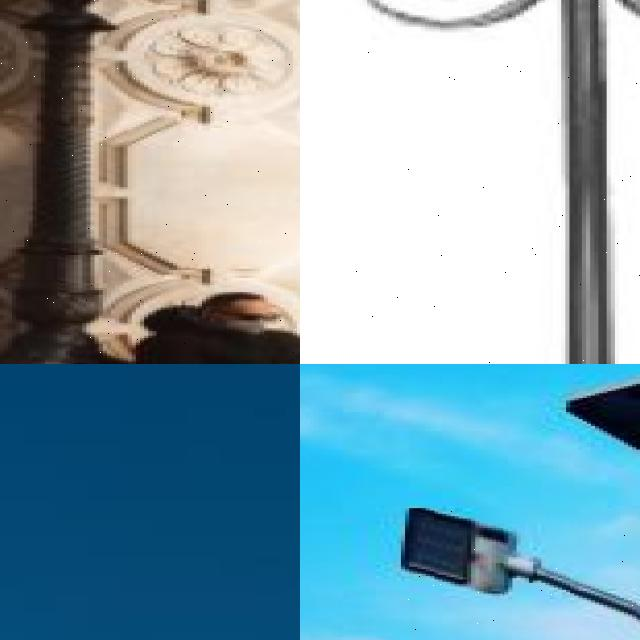street light: (338, 0, 640, 364), (0, 0, 300, 364), (401, 508, 640, 640)
